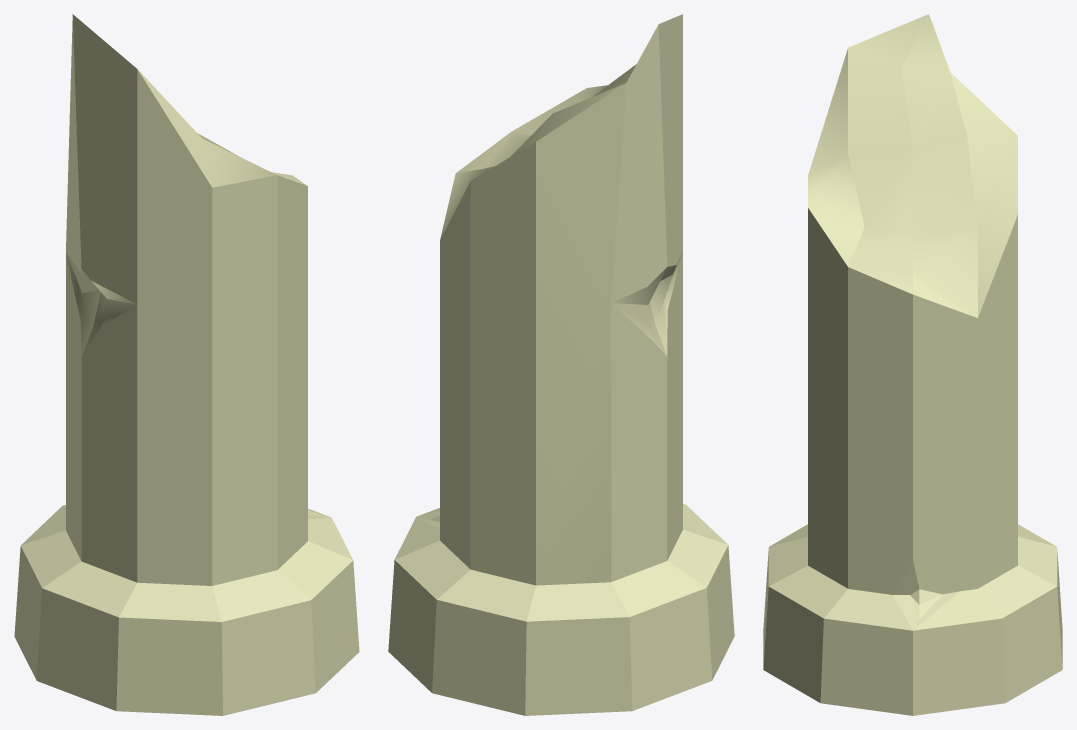
File: BrokenPillar2.fbx
3 renders of one model, left to right at view 1: azimuth 30°, elevation 25°; view 2: azimuth 150°, elevation 25°; view 3: azimuth 270°, elevation 25°, orthographic. The views are drawn at different scales.
Visible parts, largest first — view 1: BrokenPillar2; view 2: BrokenPillar2; view 3: BrokenPillar2.
Boxes of the visible parts, box(x1,y1,x2,y2) form: BrokenPillar2: box(14, 14, 359, 715); BrokenPillar2: box(388, 14, 734, 715); BrokenPillar2: box(763, 14, 1062, 715).
Bounding box in the file's own units: 0.917 × 1.89 × 0.8721.
